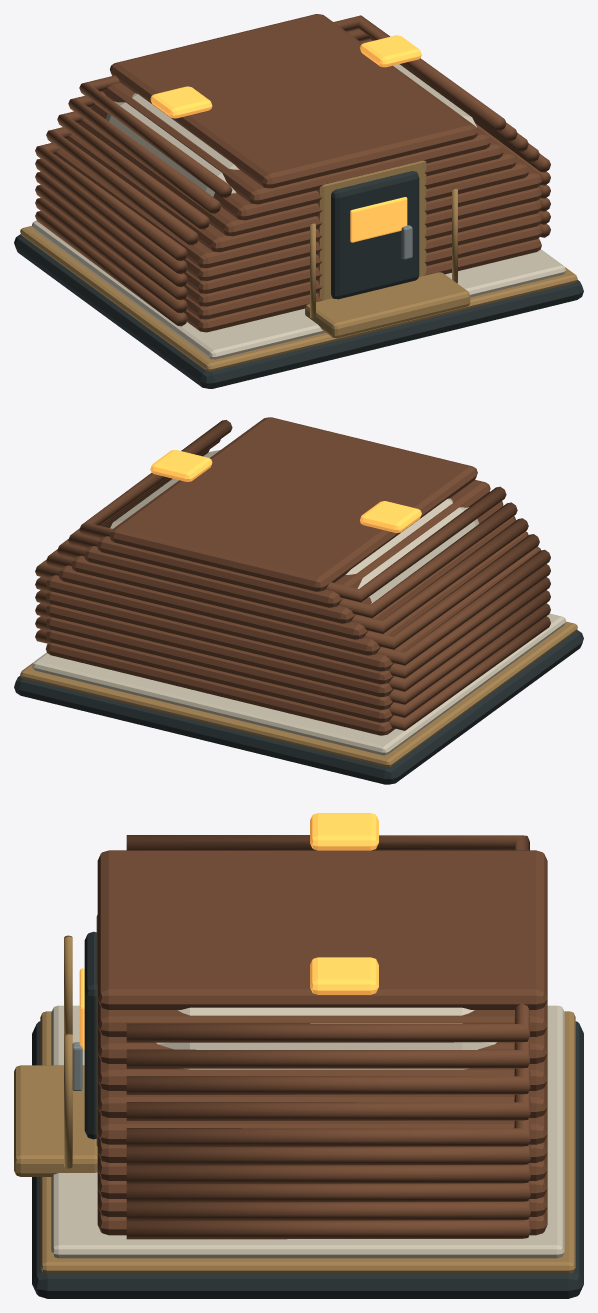
The model's file is shield-r02.glb.
3 renders of one model, top to bottom at view 1: azimuth 30°, elevation 25°; view 2: azimuth 150°, elevation 25°; view 3: azimuth 270°, elevation 25°, orthographic. The views are drawn at different scales.
Visible parts, largest first — view 1: H01 batch 04 / Ares S02 / fractured basalt, H01 batch 00 / Ares S02 / charcoal seals, H01 batch 01 / Ares S02 / brushed bronze, H01 batch 02 / Ares S02 / ceramic pressure shell, H01 batch 05 / Ares S02 / warm interior glazing; view 2: H01 batch 04 / Ares S02 / fractured basalt, H01 batch 02 / Ares S02 / ceramic pressure shell, H01 batch 00 / Ares S02 / charcoal seals, H01 batch 01 / Ares S02 / brushed bronze, H01 batch 05 / Ares S02 / warm interior glazing; view 3: H01 batch 04 / Ares S02 / fractured basalt, H01 batch 02 / Ares S02 / ceramic pressure shell, H01 batch 01 / Ares S02 / brushed bronze, H01 batch 00 / Ares S02 / charcoal seals, H01 batch 05 / Ares S02 / warm interior glazing.
Part boxes in pixels (x1,y1,x2,y2): H01 batch 04 / Ares S02 / fractured basalt: (35,14,550,332); H01 batch 00 / Ares S02 / charcoal seals: (14,171,583,388); H01 batch 01 / Ares S02 / brushed bronze: (20,160,577,371); H01 batch 02 / Ares S02 / ceramic pressure shell: (32,64,565,359); H01 batch 05 / Ares S02 / warm interior glazing: (150,35,421,242); H01 batch 04 / Ares S02 / fractured basalt: (35,417,550,735); H01 batch 02 / Ares S02 / ceramic pressure shell: (32,450,565,755); H01 batch 00 / Ares S02 / charcoal seals: (14,630,583,784); H01 batch 01 / Ares S02 / brushed bronze: (20,621,577,767); H01 batch 05 / Ares S02 / warm interior glazing: (150,450,421,532); H01 batch 04 / Ares S02 / fractured basalt: (97,835,547,1239); H01 batch 02 / Ares S02 / ceramic pressure shell: (51,1005,564,1258); H01 batch 01 / Ares S02 / brushed bronze: (14,915,575,1273); H01 batch 00 / Ares S02 / charcoal seals: (32,931,583,1298); H01 batch 05 / Ares S02 / warm interior glazing: (79,813,378,1050).
Bounding box in the file's own units: 1.72 × 0.8475 × 1.57.
